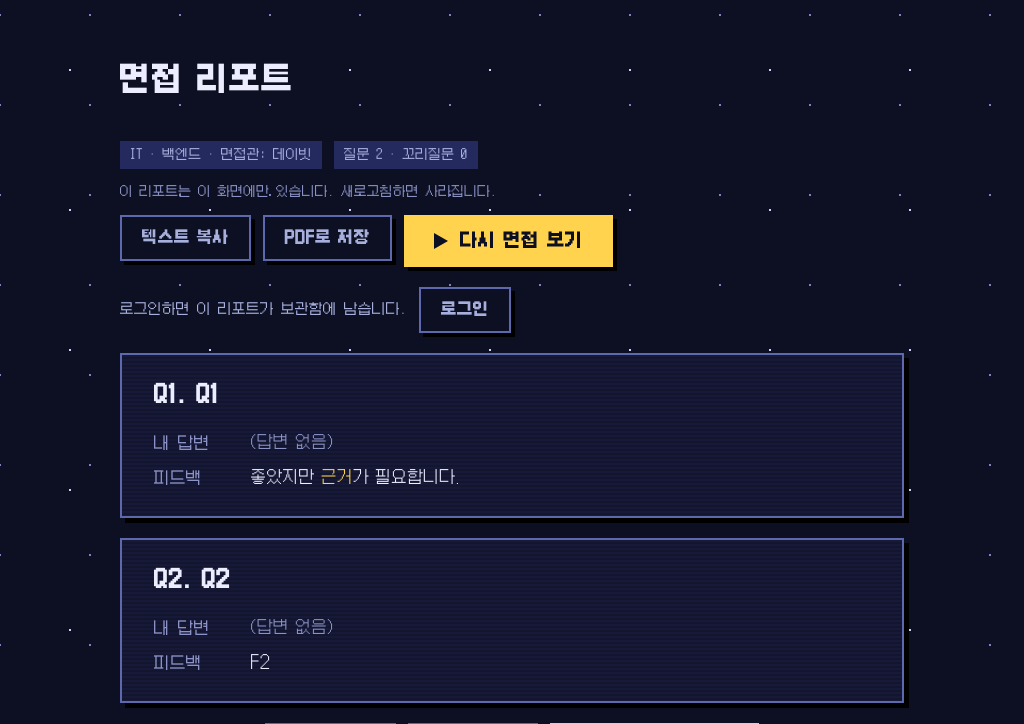
Test case: ReportView › 복사 버튼은 텍스트를 클립보드에 쓰고 2초간 복사됨
Click the button with test id "copy". click: {"x": 185, "y": 238}
box: [120, 215, 251, 261]
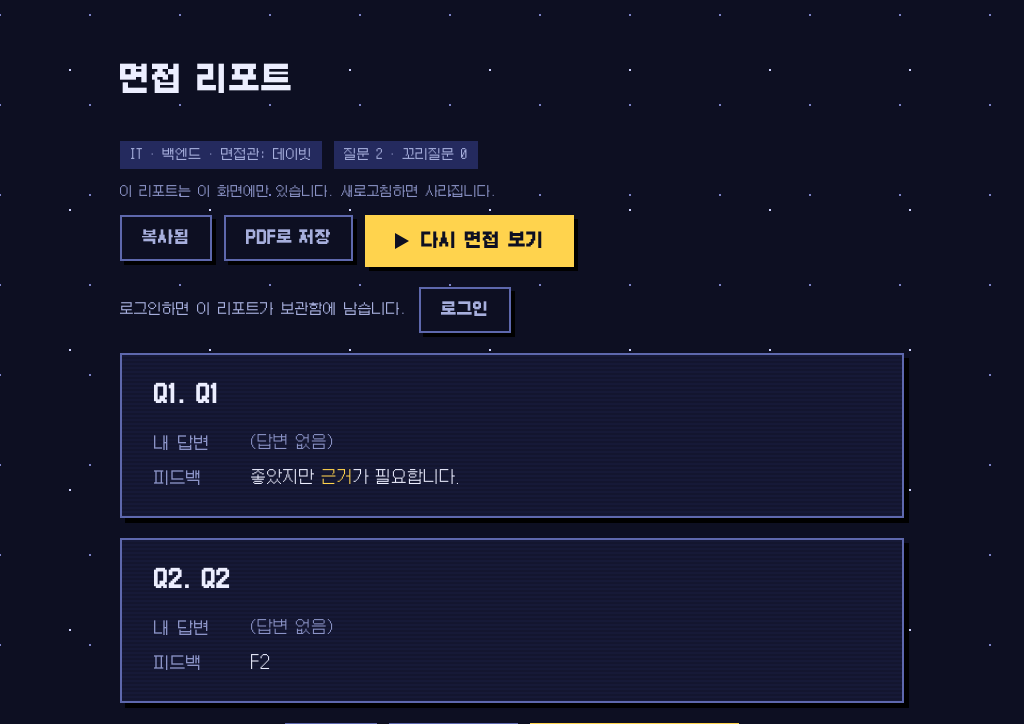
Result: the button with test id "copy" reads "복사됨" at [120, 215, 212, 261]
